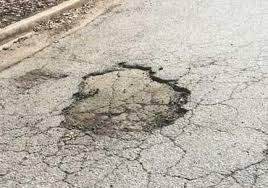alligator-crack: (2, 63, 268, 188)
pothole: (61, 56, 192, 138)
